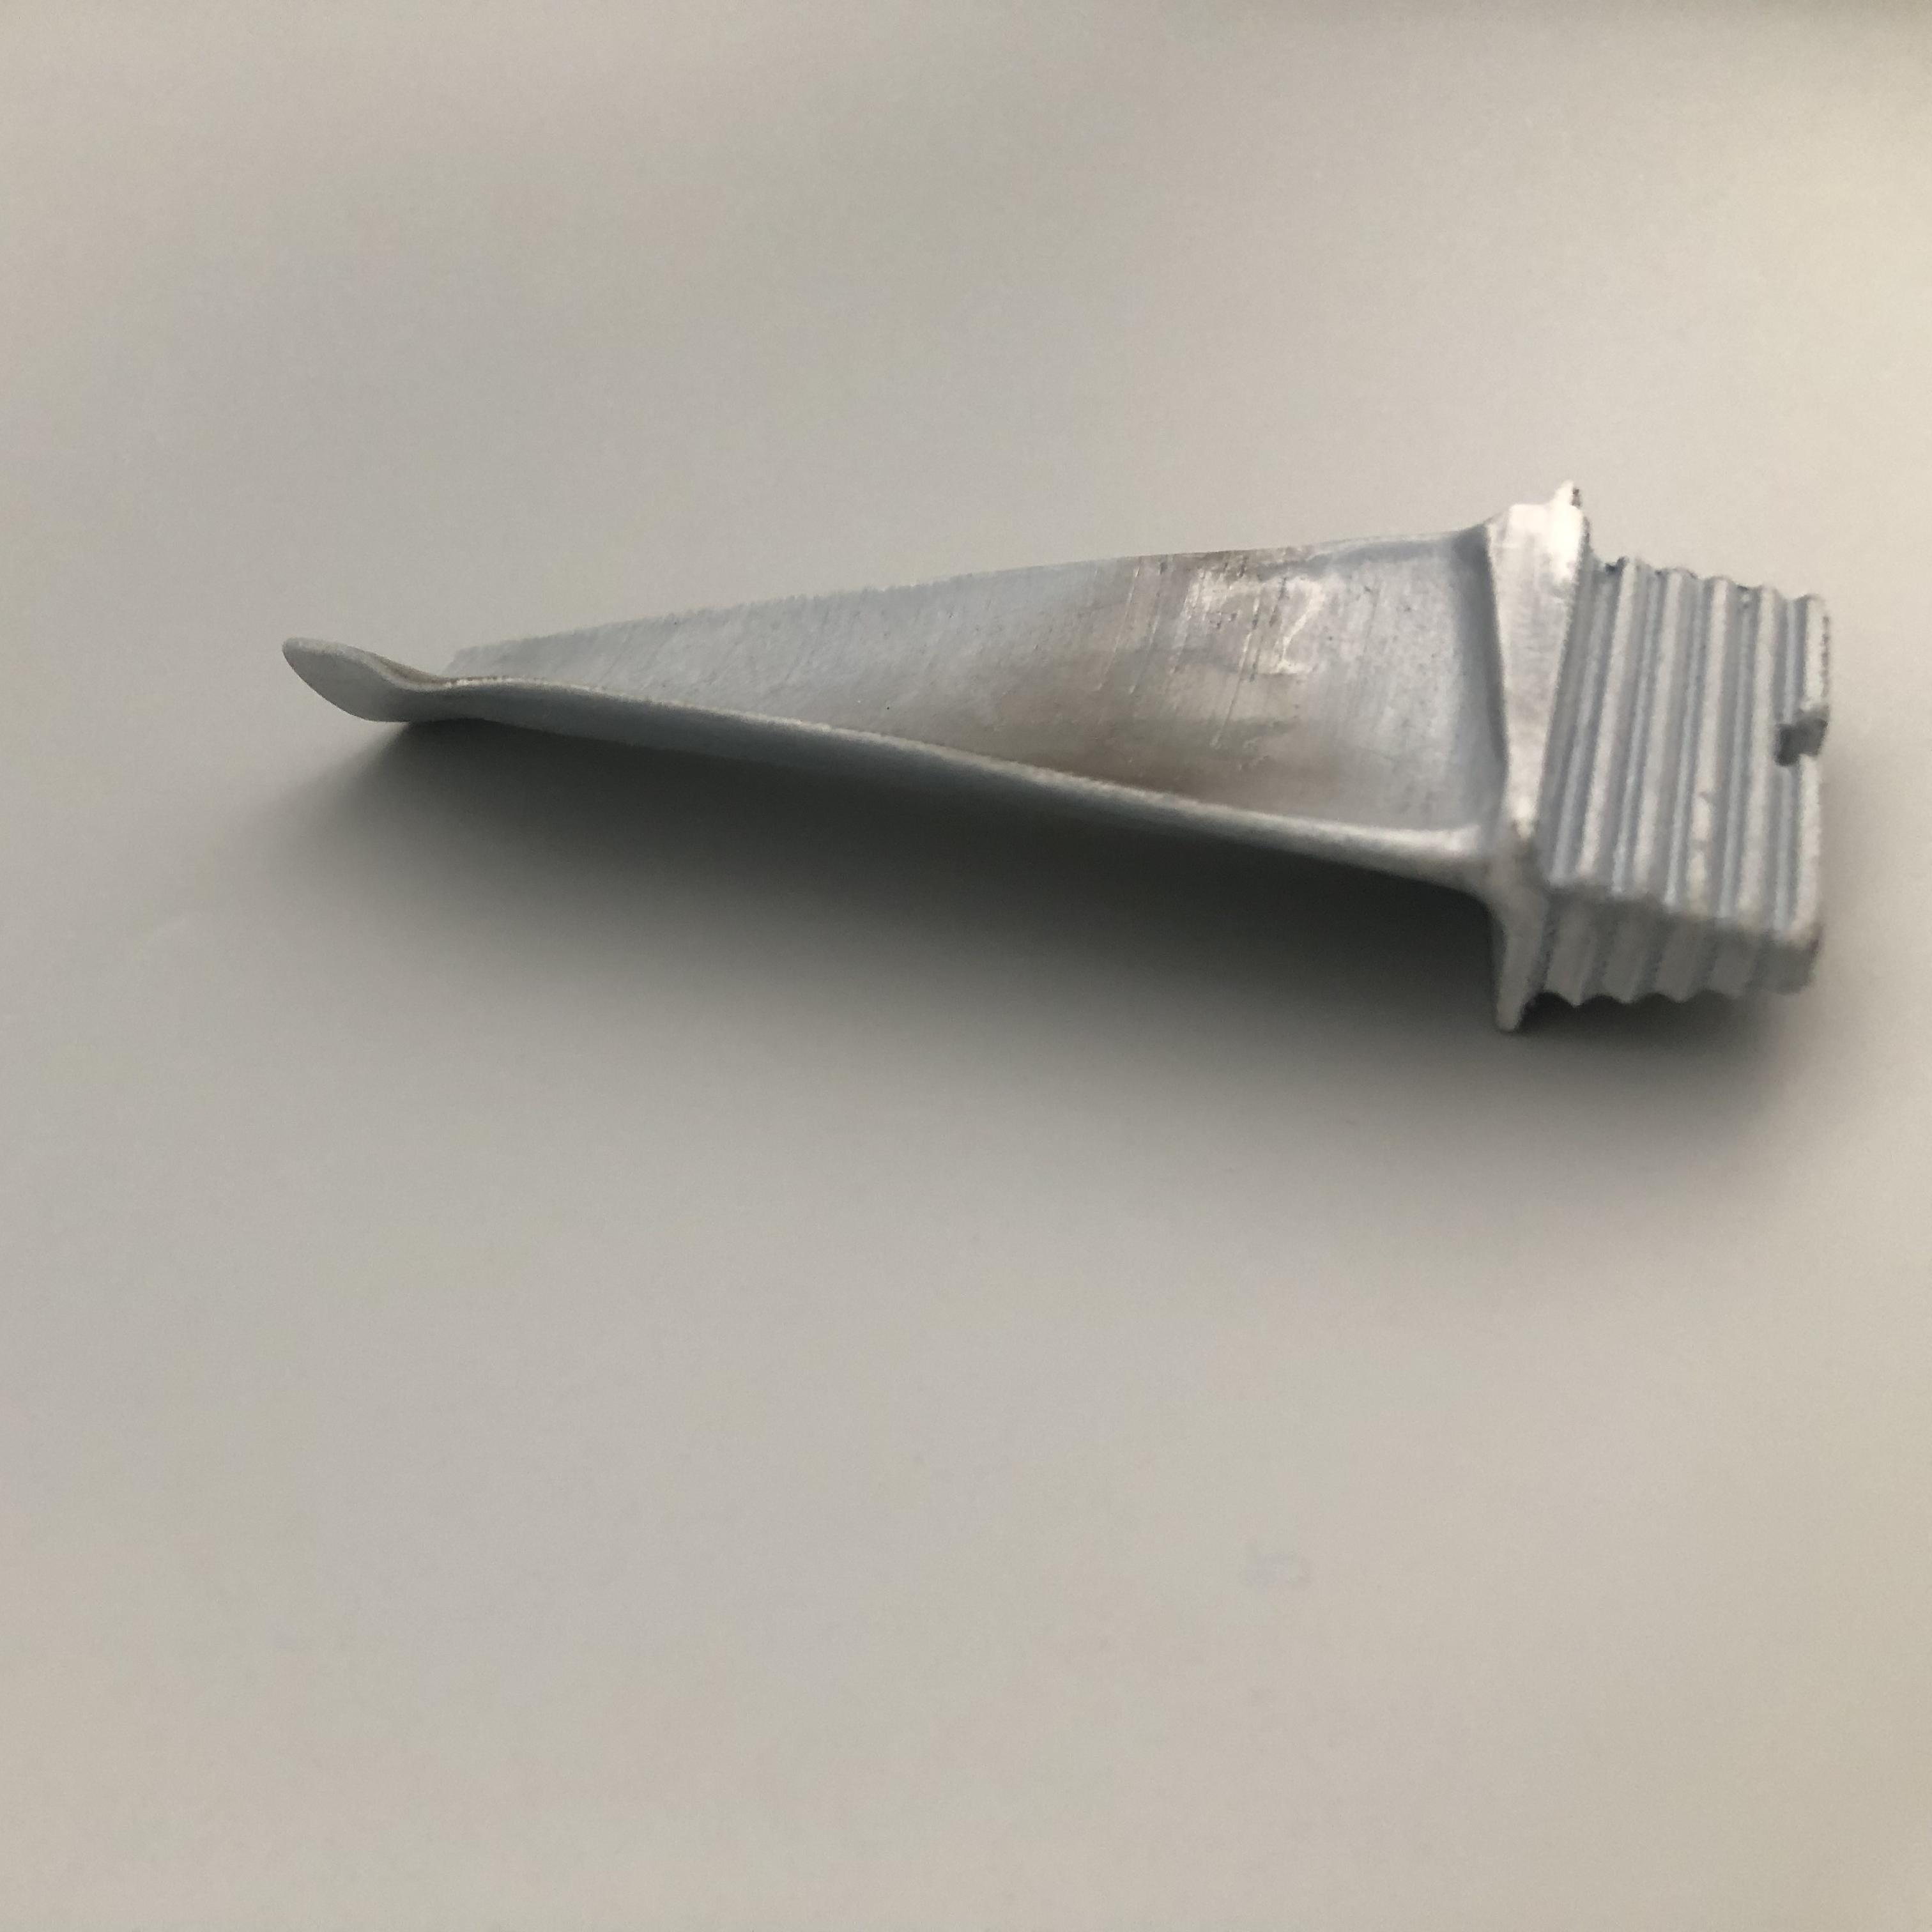ablation: (1030, 662, 1311, 800)
